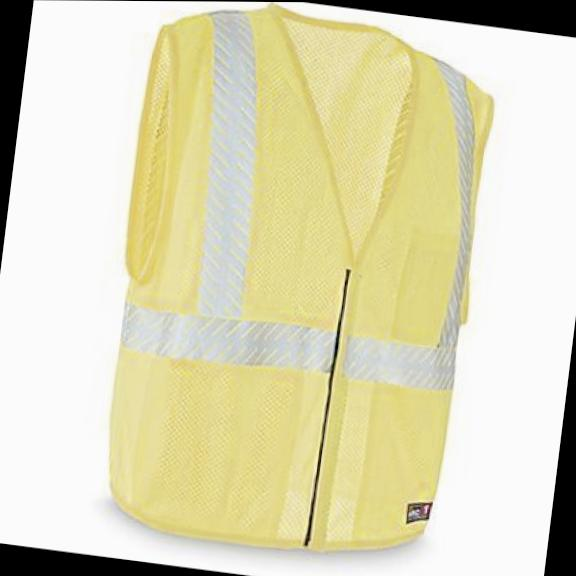safety_vest: (93, 1, 508, 576)
